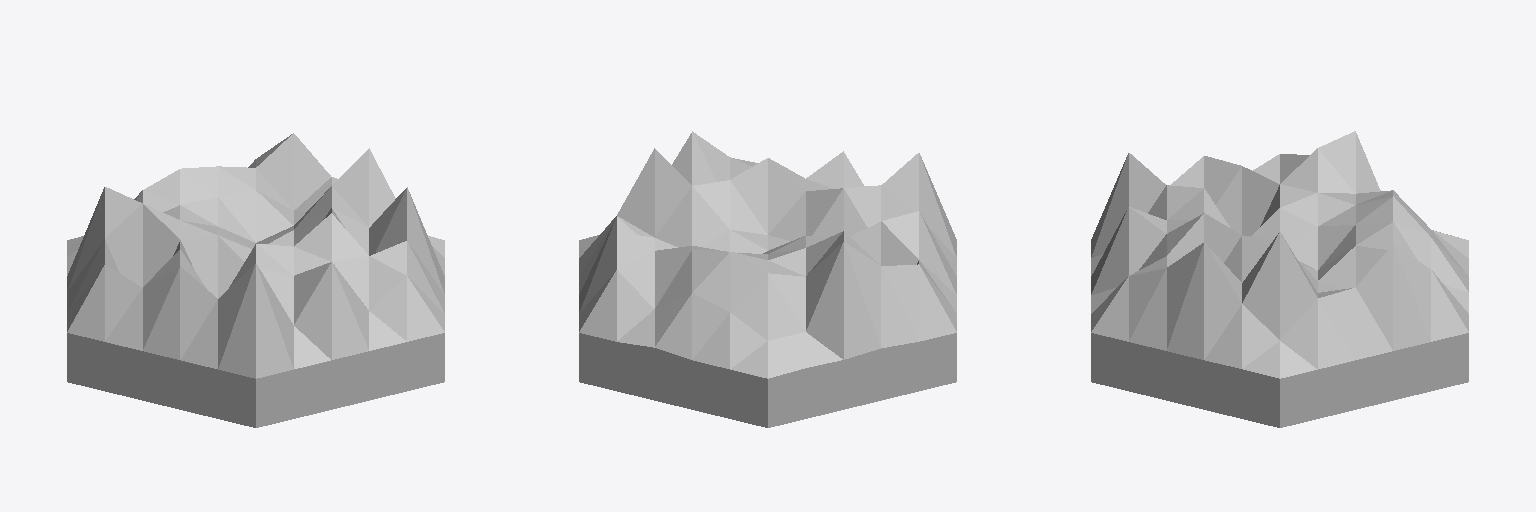
Rendered from mountain.obj.
The picture shows the model from 3 angles: view 1: azimuth 30°, elevation 25°; view 2: azimuth 150°, elevation 25°; view 3: azimuth 270°, elevation 25°; orthographic projection.
Visible parts, largest first — view 1: Mountain_Plane.001; view 2: Mountain_Plane.001; view 3: Mountain_Plane.001.
Part boxes in pixels (bbox=[...]): Mountain_Plane.001: bbox=[67, 133, 444, 427]; Mountain_Plane.001: bbox=[579, 131, 956, 427]; Mountain_Plane.001: bbox=[1091, 131, 1468, 427].
Size of the model in its own units: 4 by 1.62 by 3.46.